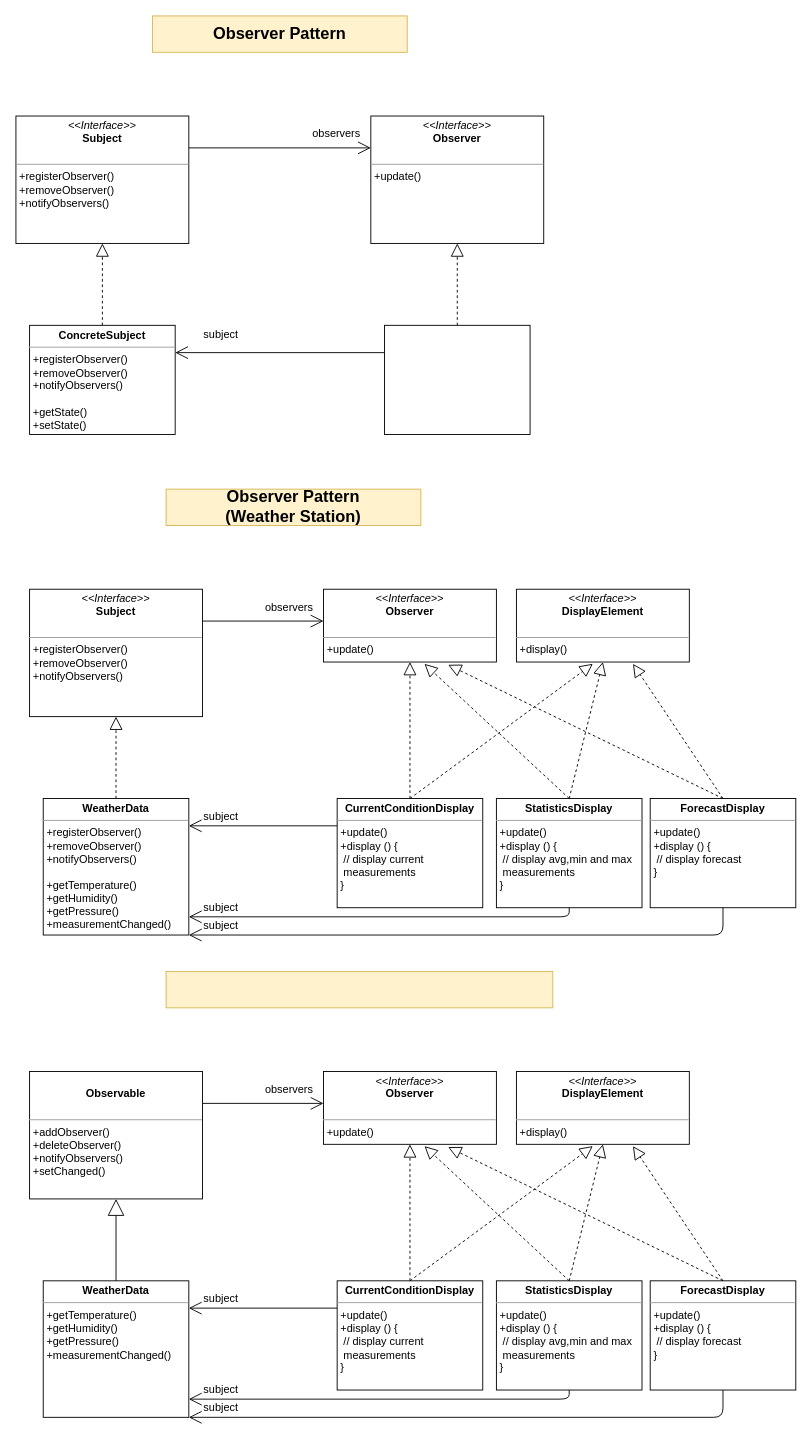
The diagram is 812 pixels wide and 1446 high, and some of its shapes have lost their labels. The box of each missing label's shape, as (x1, y1, x2, y2) in pixels:
ConcreteObserver +update() //other Observer specific methods: (384, 324, 530, 435)
Observer Pattern (Using Java's Official Observable Class): (165, 971, 553, 1008)
